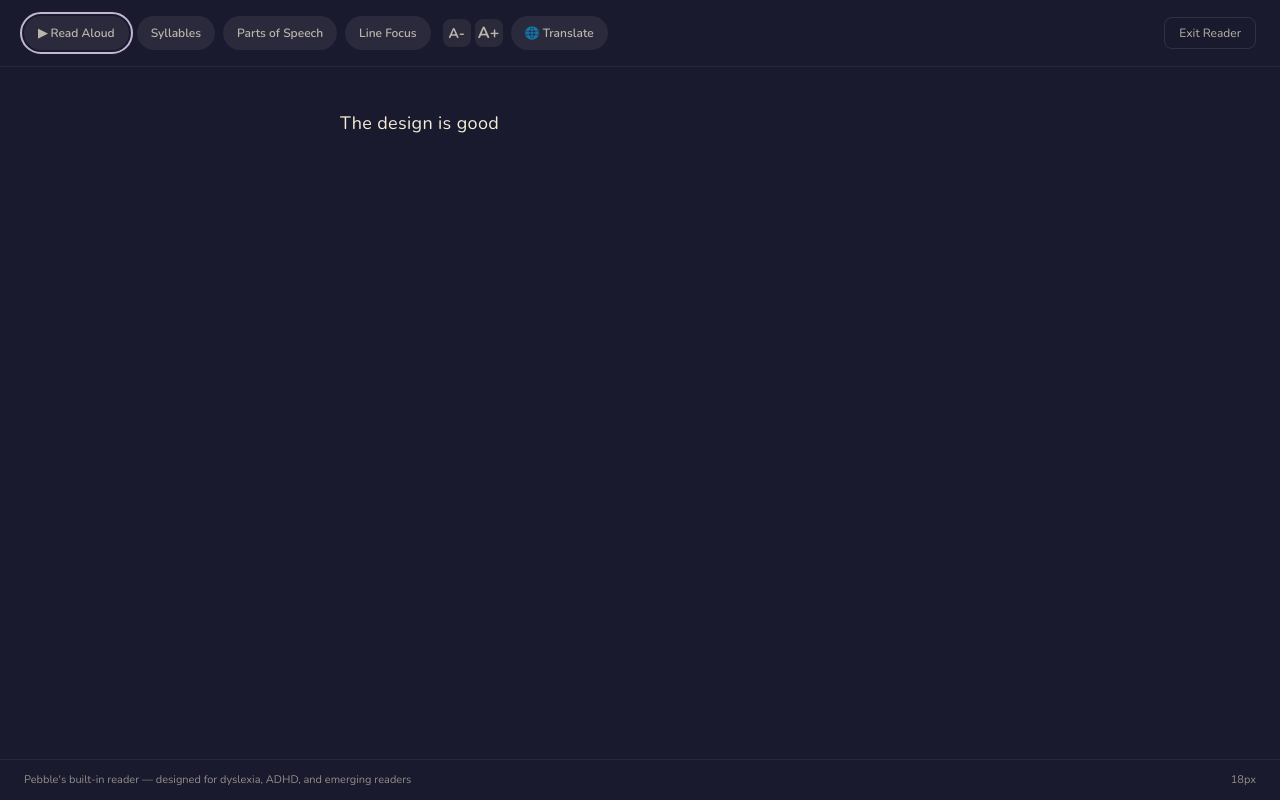
Scenario: ImmersiveReader › built-in reader › translates the text
Click the button "🌐 Translate".
click(559, 33)  # box [511, 16, 608, 50]
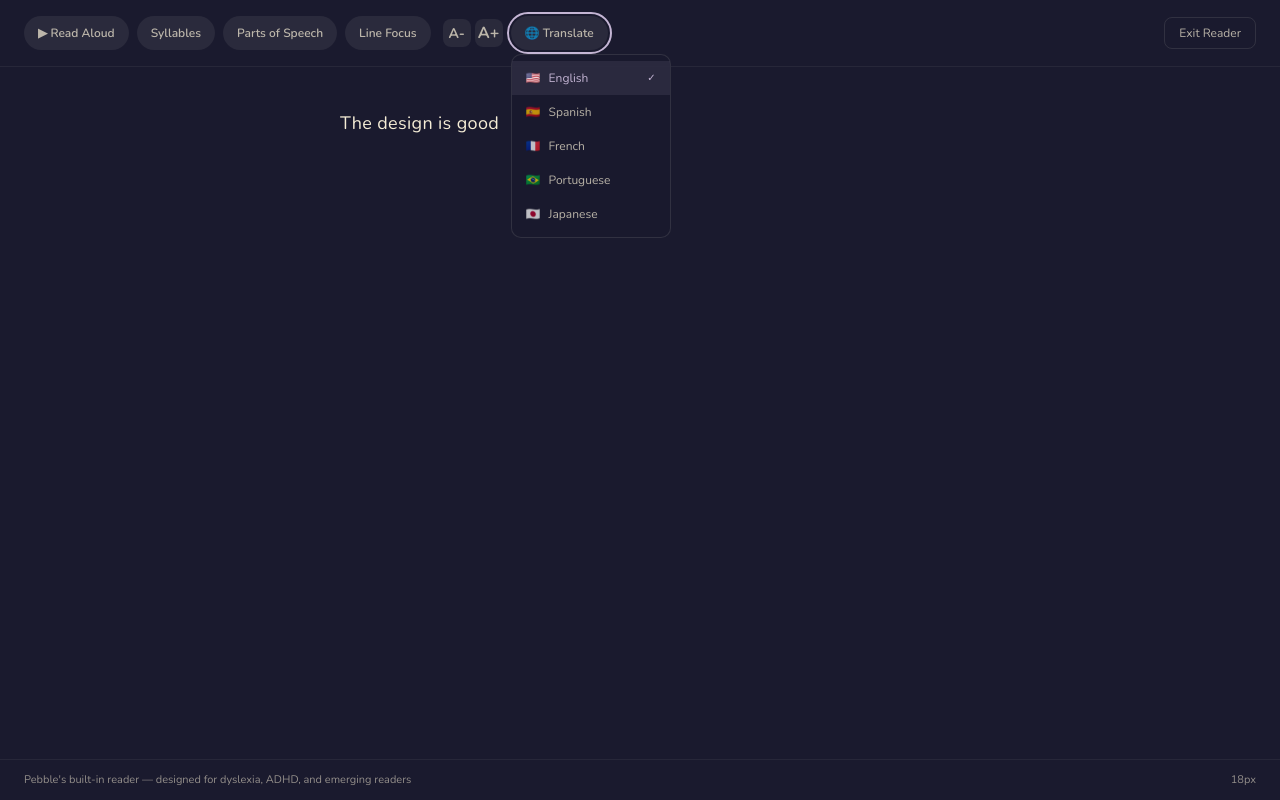
Click the button "🇪🇸 Spanish".
click(591, 112)  # box [512, 95, 670, 129]
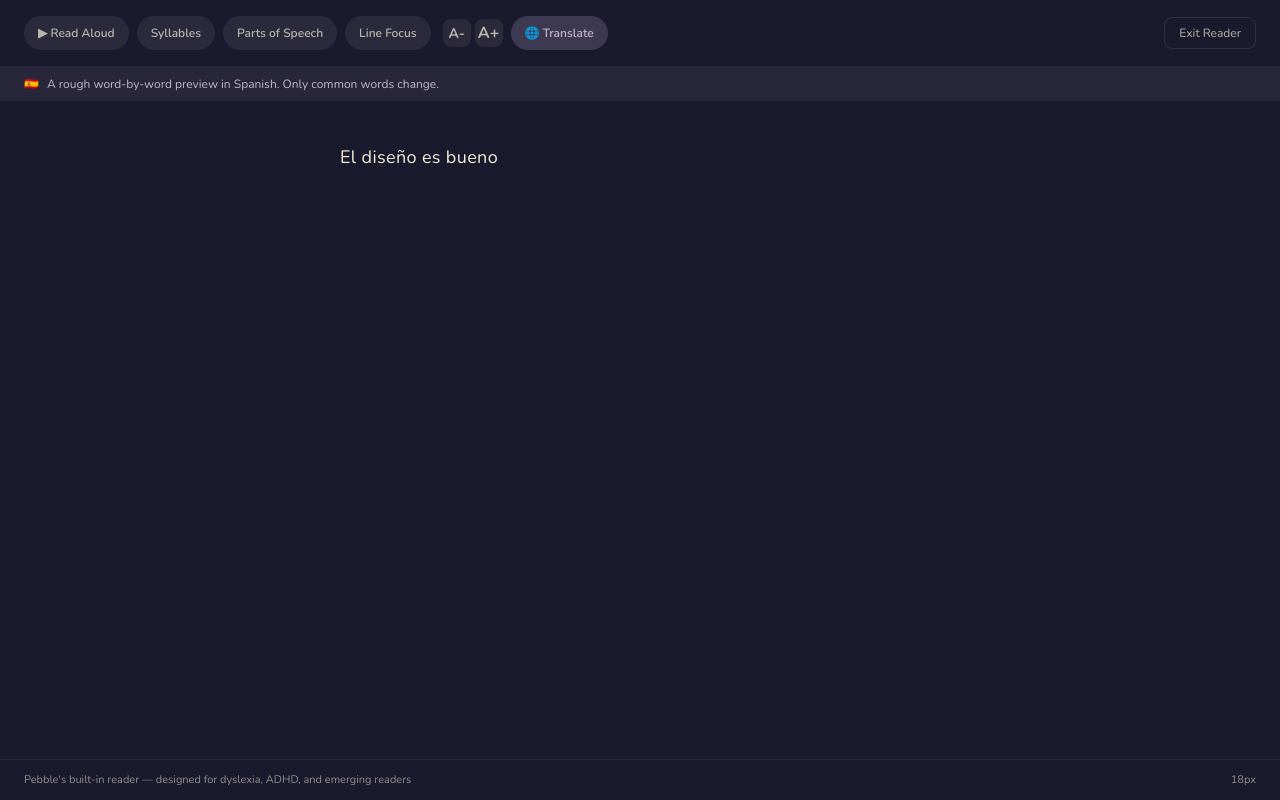
Expected: the element with test id "reader-text" reads "El diseño es bueno", [340, 145, 498, 169]
Expected: the text "A rough word-by-word preview in Spanish" is shown, [0, 67, 1279, 101]
